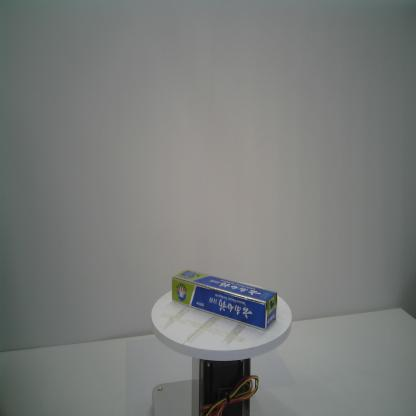Personal Hygiene: (171, 269, 278, 330)
